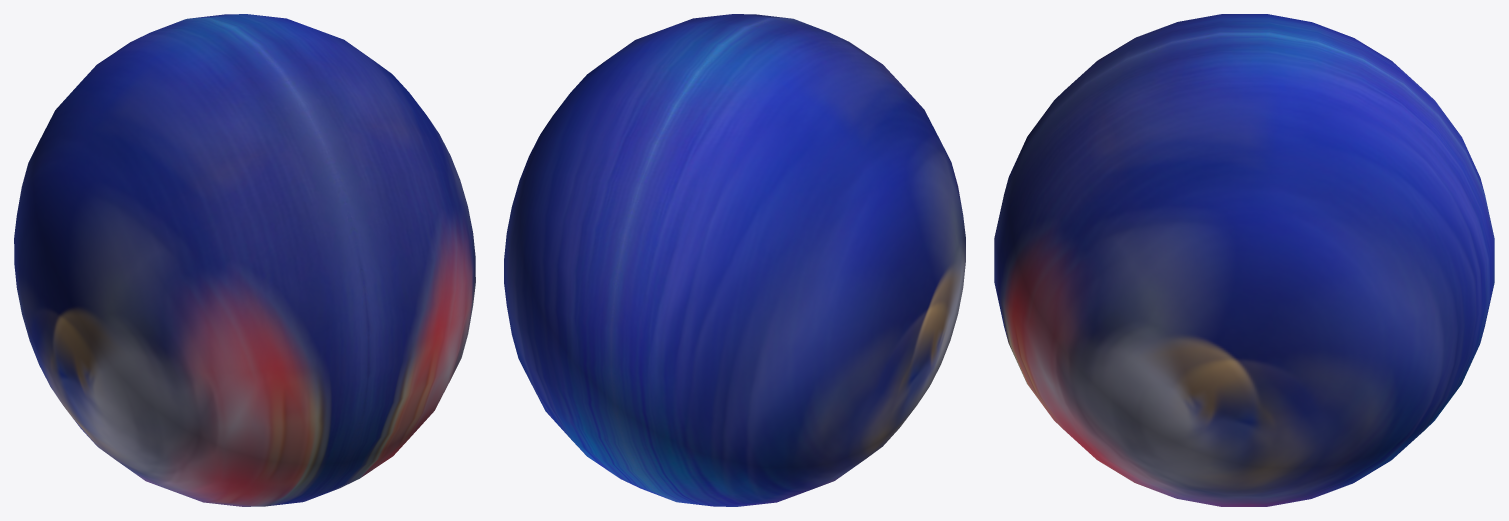
The model's file is spinball.obj.
3 views of the same model, side by side, from view 1: azimuth 30°, elevation 25°; view 2: azimuth 150°, elevation 25°; view 3: azimuth 270°, elevation 25° (orthographic).
Parts seen in each view (by area): view 1: Effects.001_Sonic.001; view 2: Effects.001_Sonic.001; view 3: Effects.001_Sonic.001.
Part boxes in pixels (box(x1,y1,x2,y2)): Effects.001_Sonic.001: box(14, 14, 475, 506); Effects.001_Sonic.001: box(504, 14, 965, 506); Effects.001_Sonic.001: box(994, 14, 1494, 506).
Bounding box in the file's own units: 3.06 × 3.46 × 3.46.
